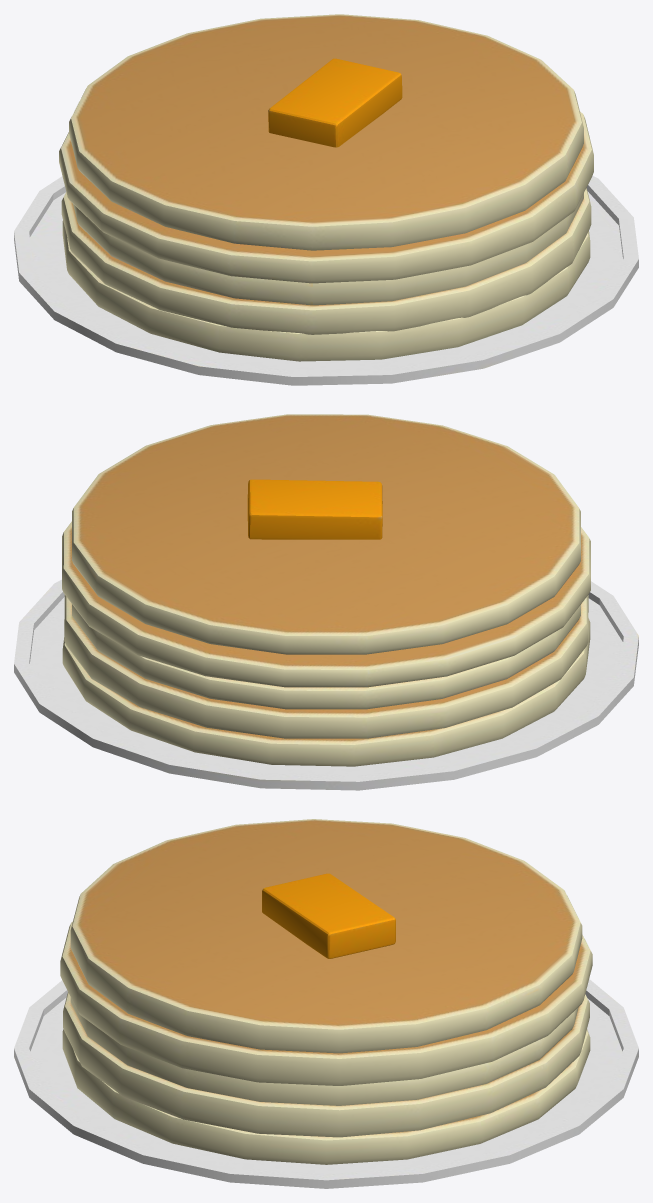
File: Pancakes.fbx
3 renders of one model, top to bottom at view 1: azimuth 30°, elevation 25°; view 2: azimuth 150°, elevation 25°; view 3: azimuth 270°, elevation 25°, orthographic.
Parts seen in each view (by area): view 1: Pancakes; view 2: Pancakes; view 3: Pancakes.
Part boxes in pixels (x1,y1,x2,y2): Pancakes: (14, 14, 638, 385); Pancakes: (14, 414, 638, 790); Pancakes: (14, 819, 638, 1188).
Size of the model in its own units: 3.29 by 0.9342 by 3.29.
1 material, 1 textured.
